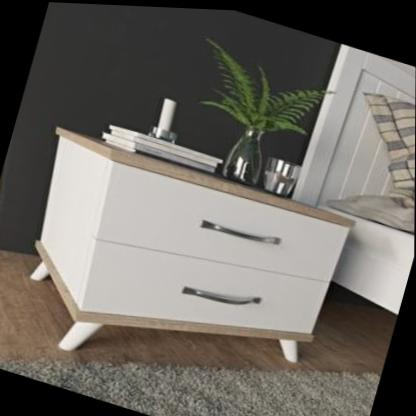Carpet: (0, 360, 381, 416)
Nightstand: (4, 115, 361, 416)
Wooden floor: (0, 250, 396, 373)
